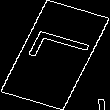L_E: (17, 32, 93, 78)
